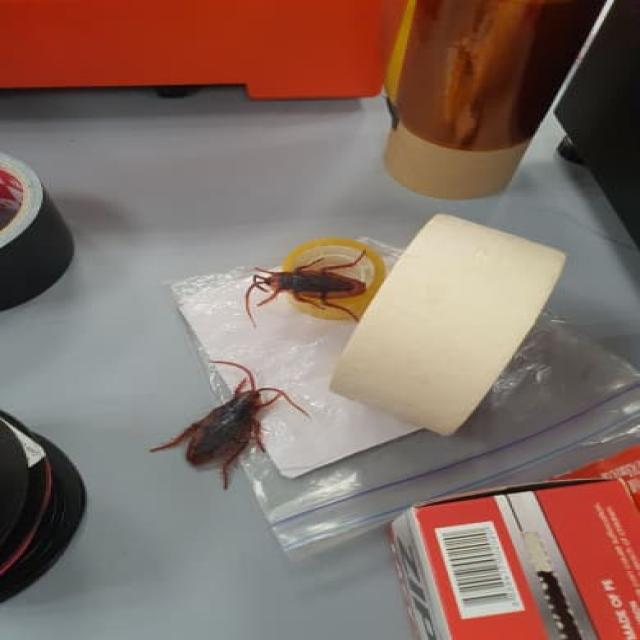Cockroach: (154, 359, 289, 469), (238, 249, 384, 315)
